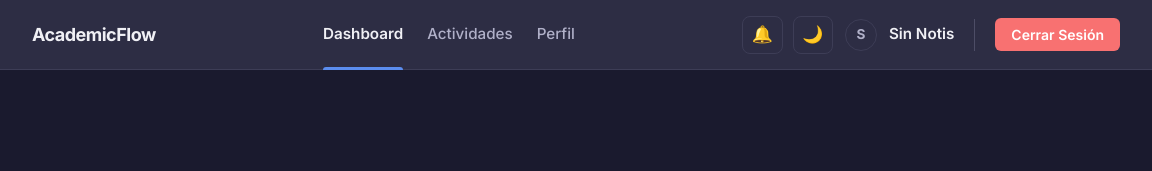
it: Navbar › muestra estado vacio si falla carga de notificaciones
Click the button named "Abrir notificaciones".
click(762, 34)  # box [742, 16, 782, 54]
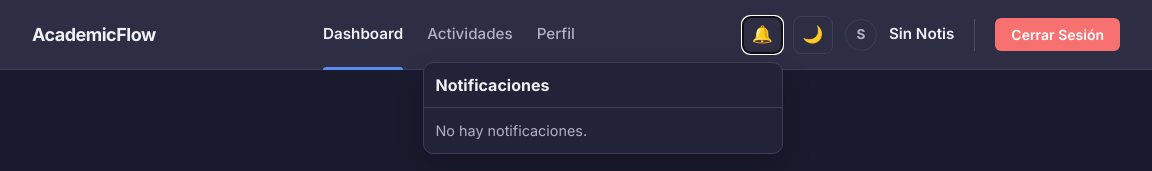
Result: the text "No hay notificaciones." is shown at [436, 122, 587, 138]
